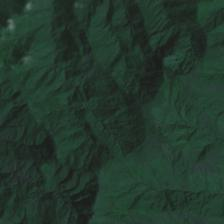landslides: (14, 159, 22, 174), (34, 173, 44, 185), (197, 163, 205, 176)
